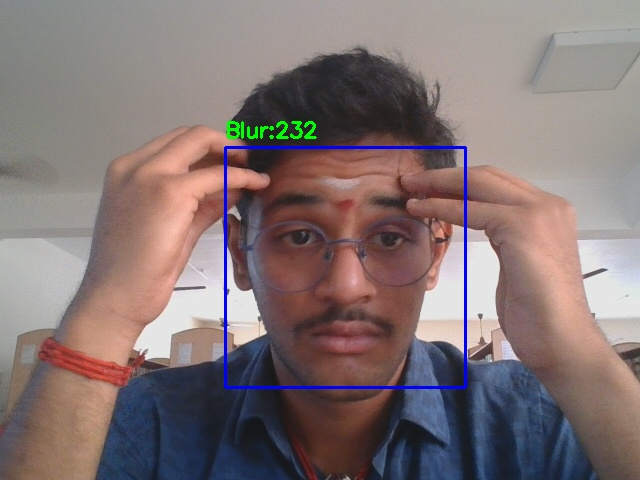real: (225, 147, 465, 387)
